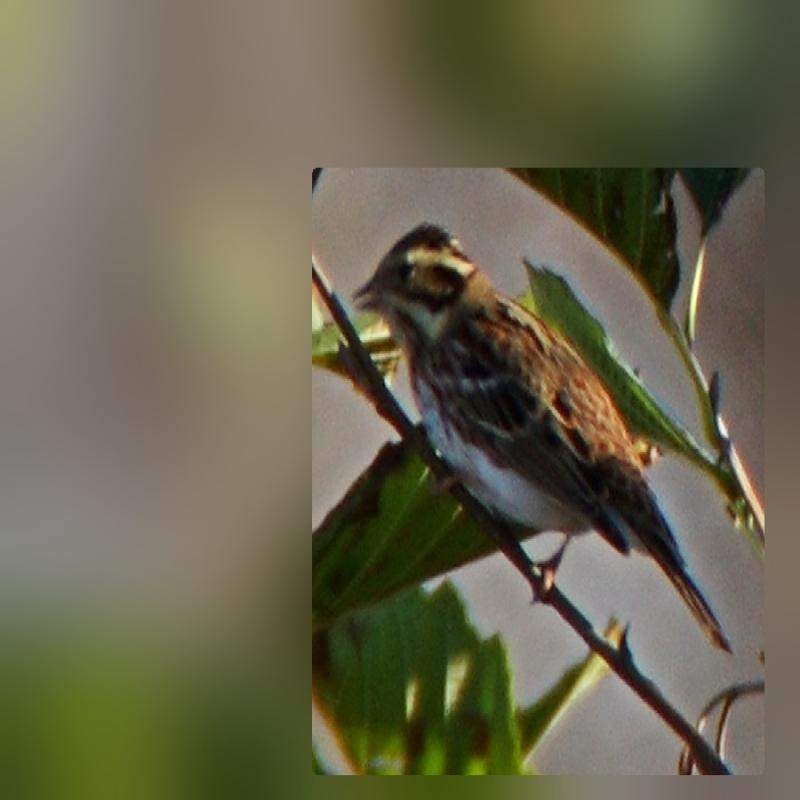rustic bunting: (314, 176, 760, 674)
